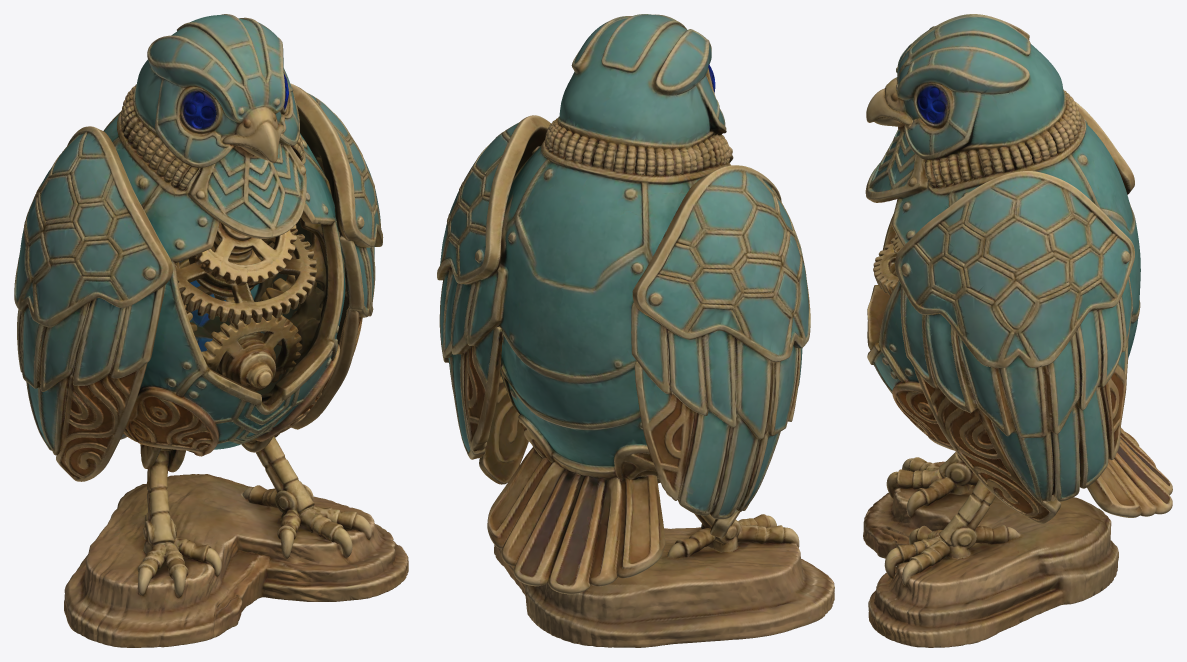
File: OWL.glb
3 views of the same model, side by side, from view 1: azimuth 30°, elevation 25°; view 2: azimuth 150°, elevation 25°; view 3: azimuth 270°, elevation 25° (orthographic). The views are drawn at different scales.
Size of the model in its own units: 1.21 by 1.9 by 0.9705.
1 material, 1 textured.
